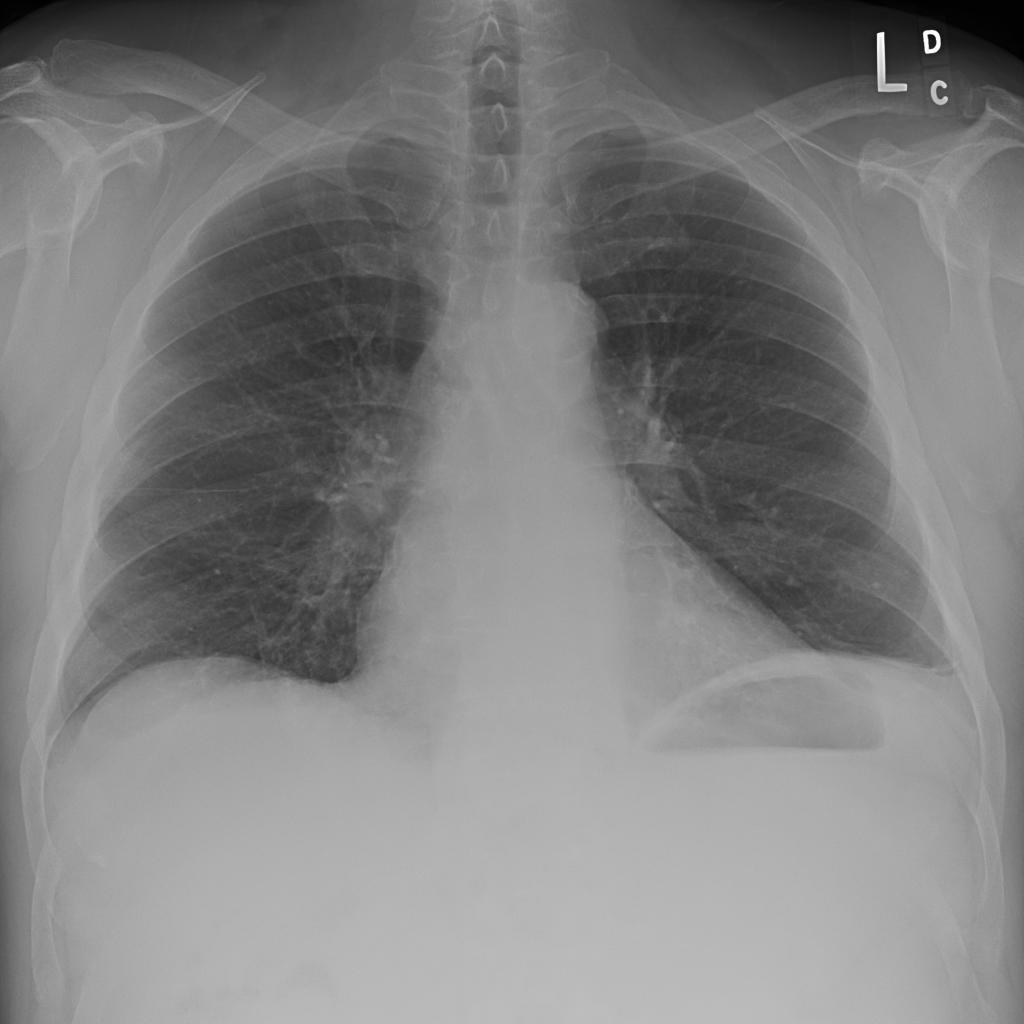Nodule: (178, 201, 211, 247), (275, 103, 296, 127)
